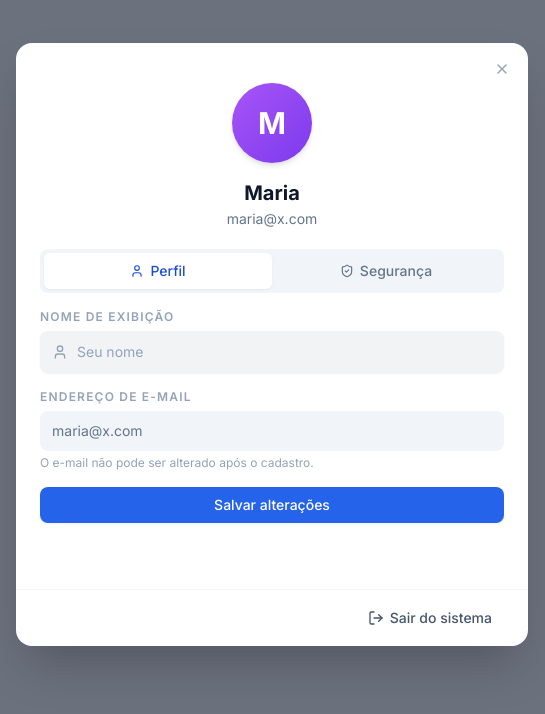
ProfileModal › aba Segurança: strength bar reage à senha digitada
expect the heading "Maria" is shown: met, box [244,180,300,204]
Click the button "Segurança".
click(386, 270)  # box [272,252,500,288]
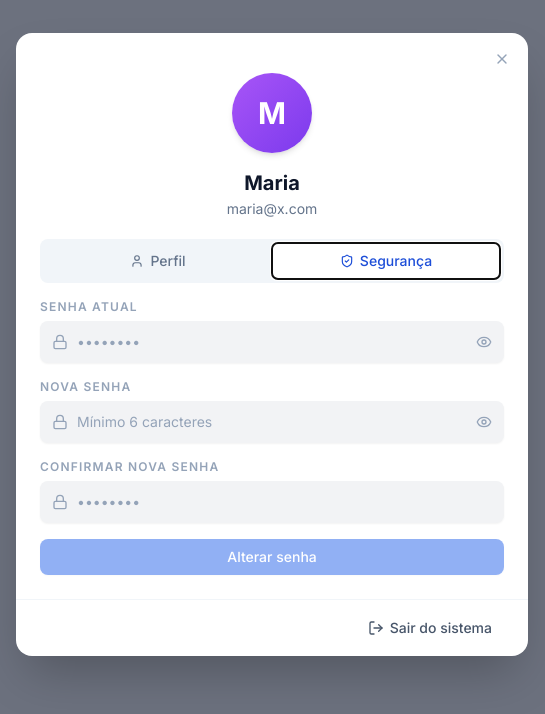
Senha curta → fraca
Type "123" into the password field with placeholder "Mínimo 6 caracteres".
click(272, 422); type("123")  # box [40,400,504,442]
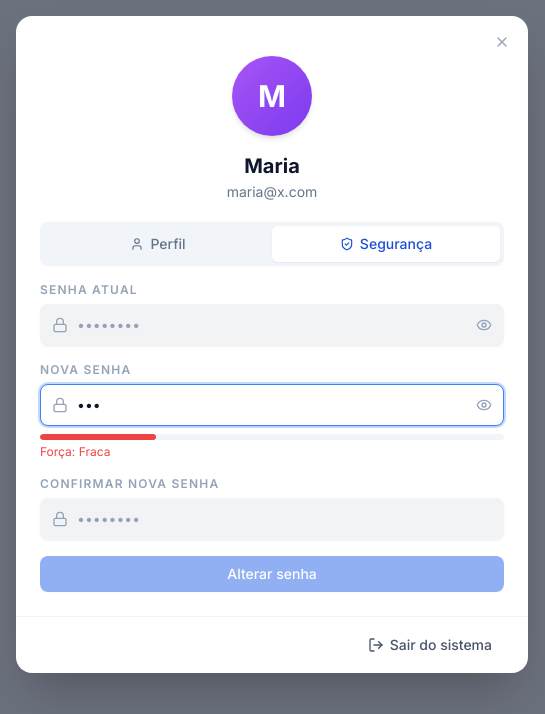
expect the text "Força: Fraca" is shown: met, box [40,444,110,458]
Senha média
Clear the password field with placeholder "Mínimo 6 caracteres" at (272, 404), box [40,384,504,426]
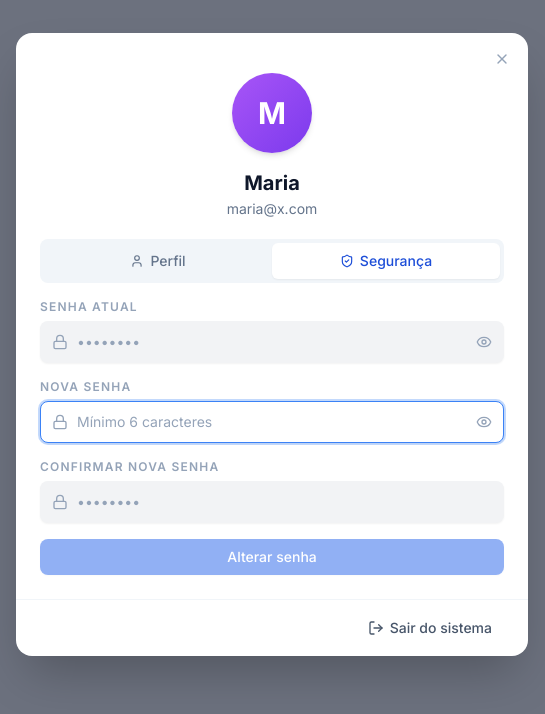
Type "1234567" into the password field with placeholder "Mínimo 6 caracteres".
click(272, 422); type("1234567")  # box [40,400,504,442]
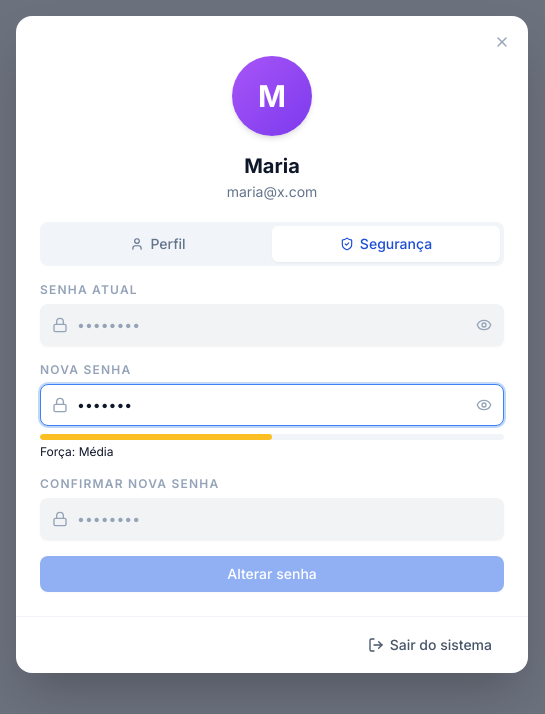
expect the text "Força: Média" is shown: met, box [40,444,114,458]
